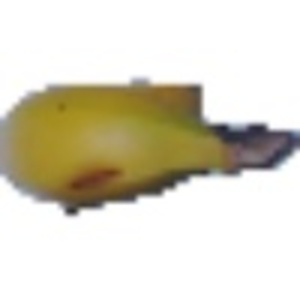banana: (2, 77, 289, 204)
